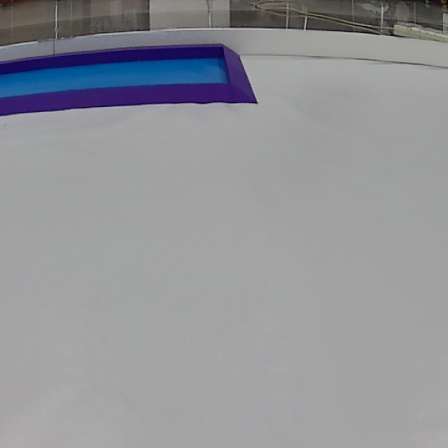blue_aim: (0, 41, 261, 119)
